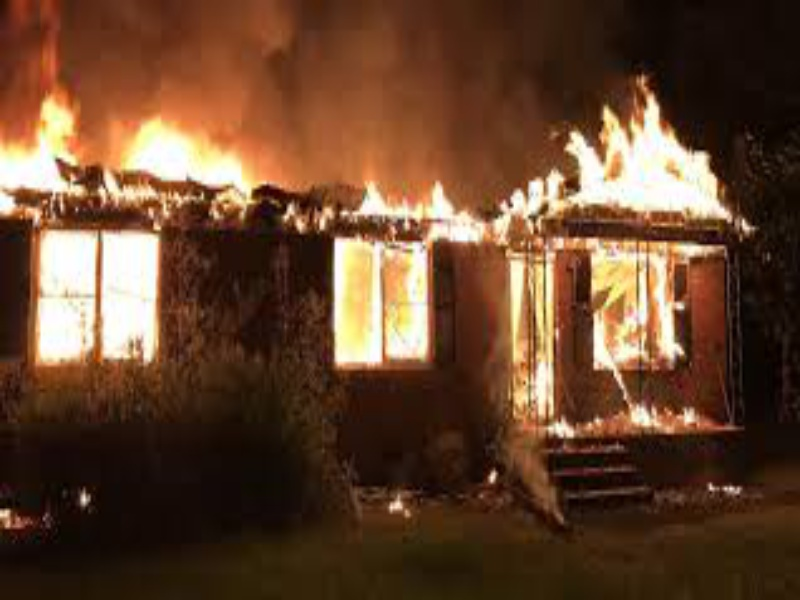fire: (488, 60, 749, 226), (5, 90, 251, 195), (41, 231, 152, 364), (334, 236, 431, 365), (593, 242, 687, 371), (345, 168, 481, 227), (512, 256, 556, 416), (618, 401, 703, 425)
